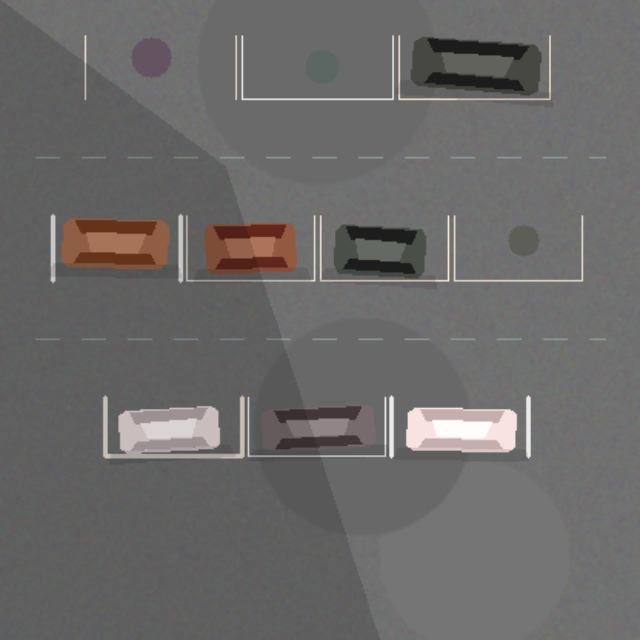space-empty: (85, 35, 235, 98), (242, 35, 392, 98), (454, 215, 582, 280)
space-occupied: (398, 35, 549, 98), (52, 215, 180, 280), (186, 215, 314, 280), (320, 215, 448, 280), (105, 397, 242, 455), (248, 397, 385, 455), (391, 397, 528, 455)
